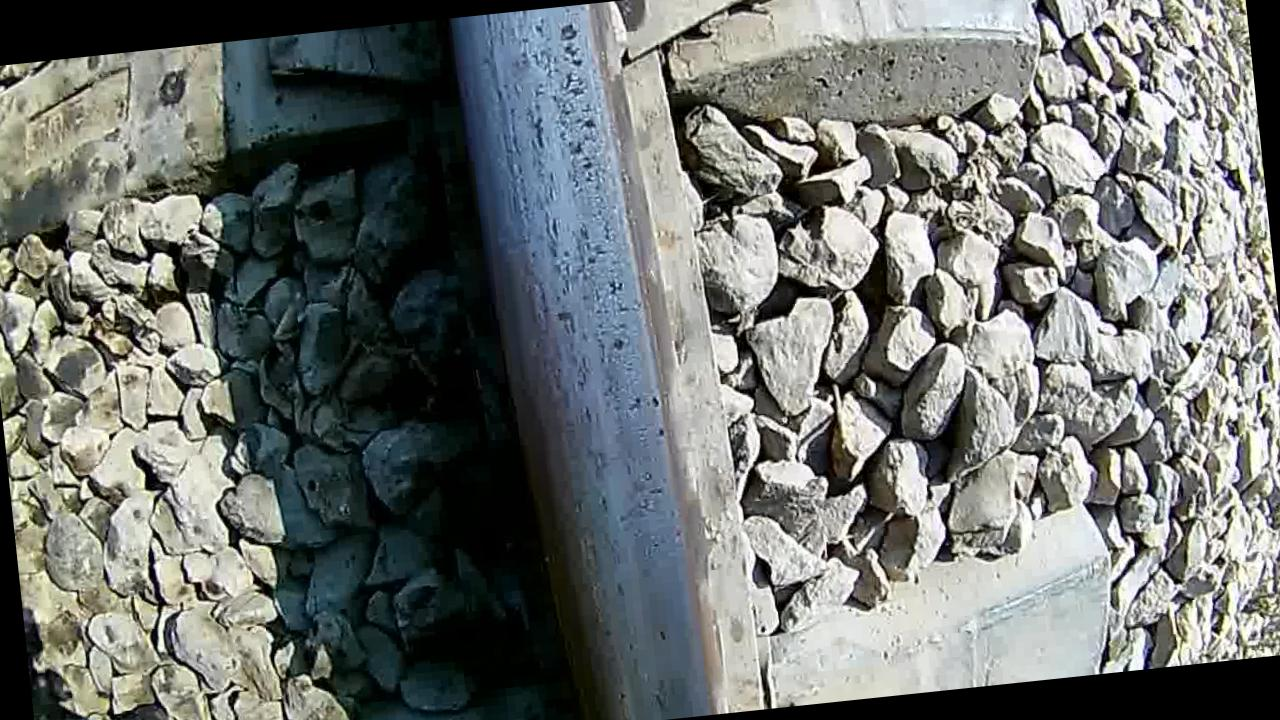crack: (452, 1, 716, 720)
